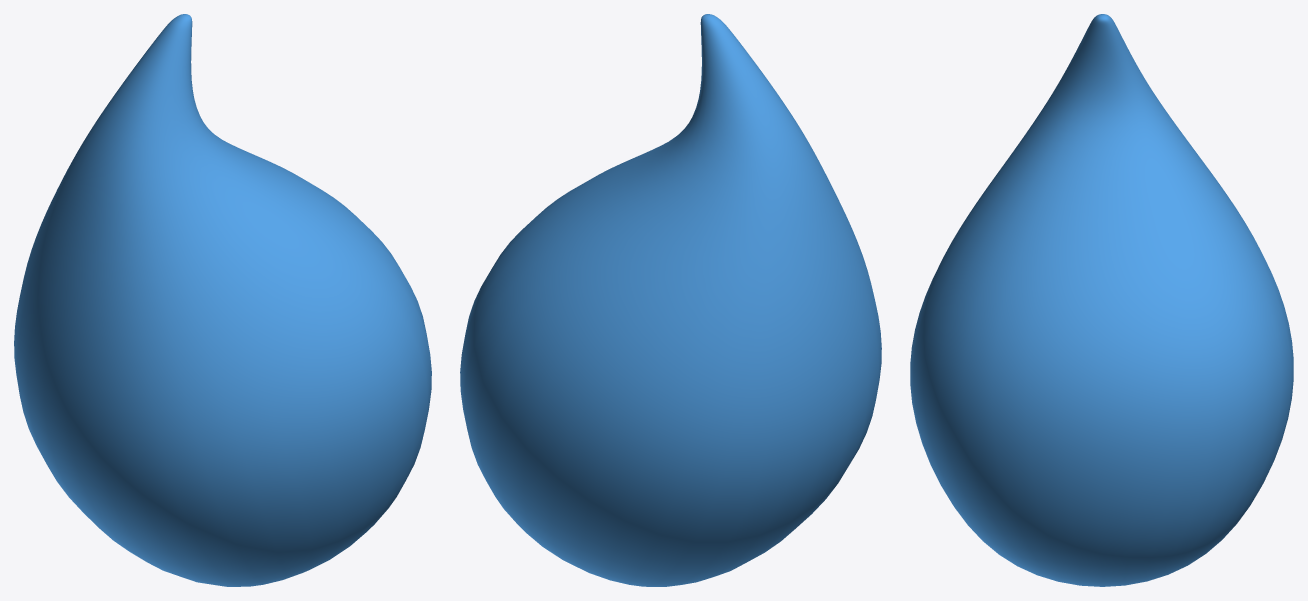
Rendered from suDamlasi.fbx.
3 renders of one model, left to right at view 1: azimuth 30°, elevation 25°; view 2: azimuth 150°, elevation 25°; view 3: azimuth 270°, elevation 25°, orthographic. The views are drawn at different scales.
Visible parts, largest first — view 1: su; view 2: su; view 3: su.
Part boxes in pixels (bbox=[...]): su: bbox=[14, 14, 431, 586]; su: bbox=[460, 14, 881, 586]; su: bbox=[910, 14, 1293, 586].
Size of the model in its own units: 64.57 by 97.47 by 63.67.
